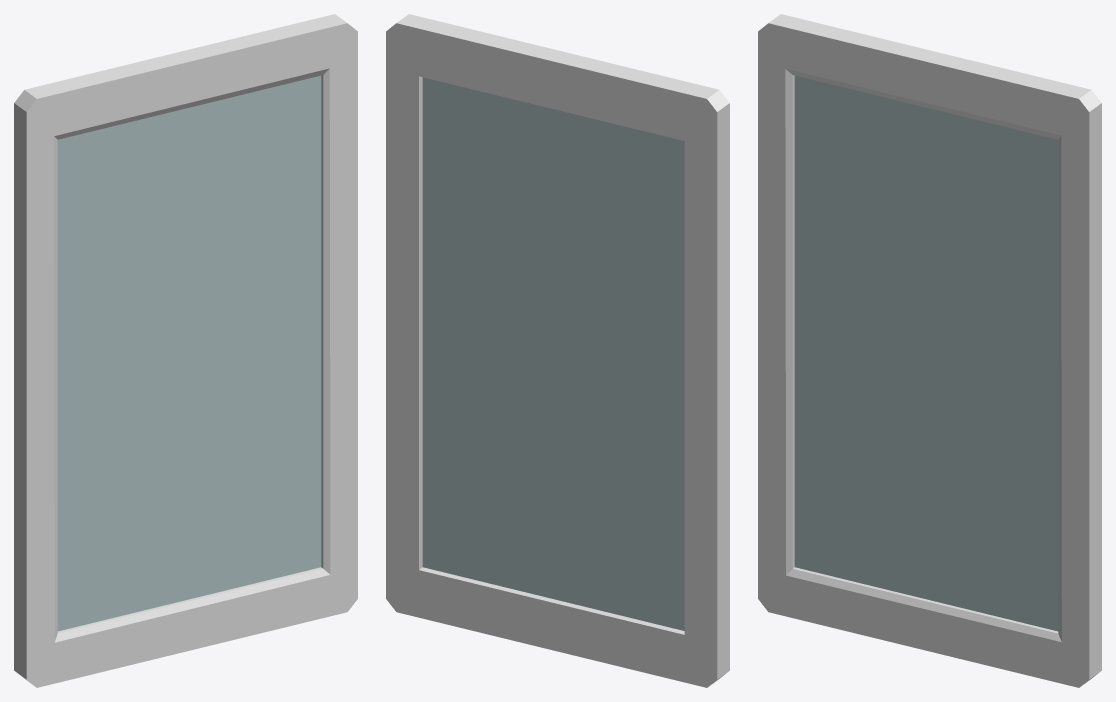
File: Mirror 1.fbx
3 views of the same model, side by side, from view 1: azimuth 30°, elevation 25°; view 2: azimuth 150°, elevation 25°; view 3: azimuth 330°, elevation 25° (orthographic).
Visible parts, largest first — view 1: Mirror 1; view 2: Mirror 1; view 3: Mirror 1.
Part boxes in pixels (bbox=[...]): Mirror 1: bbox=[14, 14, 357, 687]; Mirror 1: bbox=[386, 14, 729, 687]; Mirror 1: bbox=[758, 14, 1101, 687].
Bounding box in the file's own units: 200 × 340 × 13.16.
